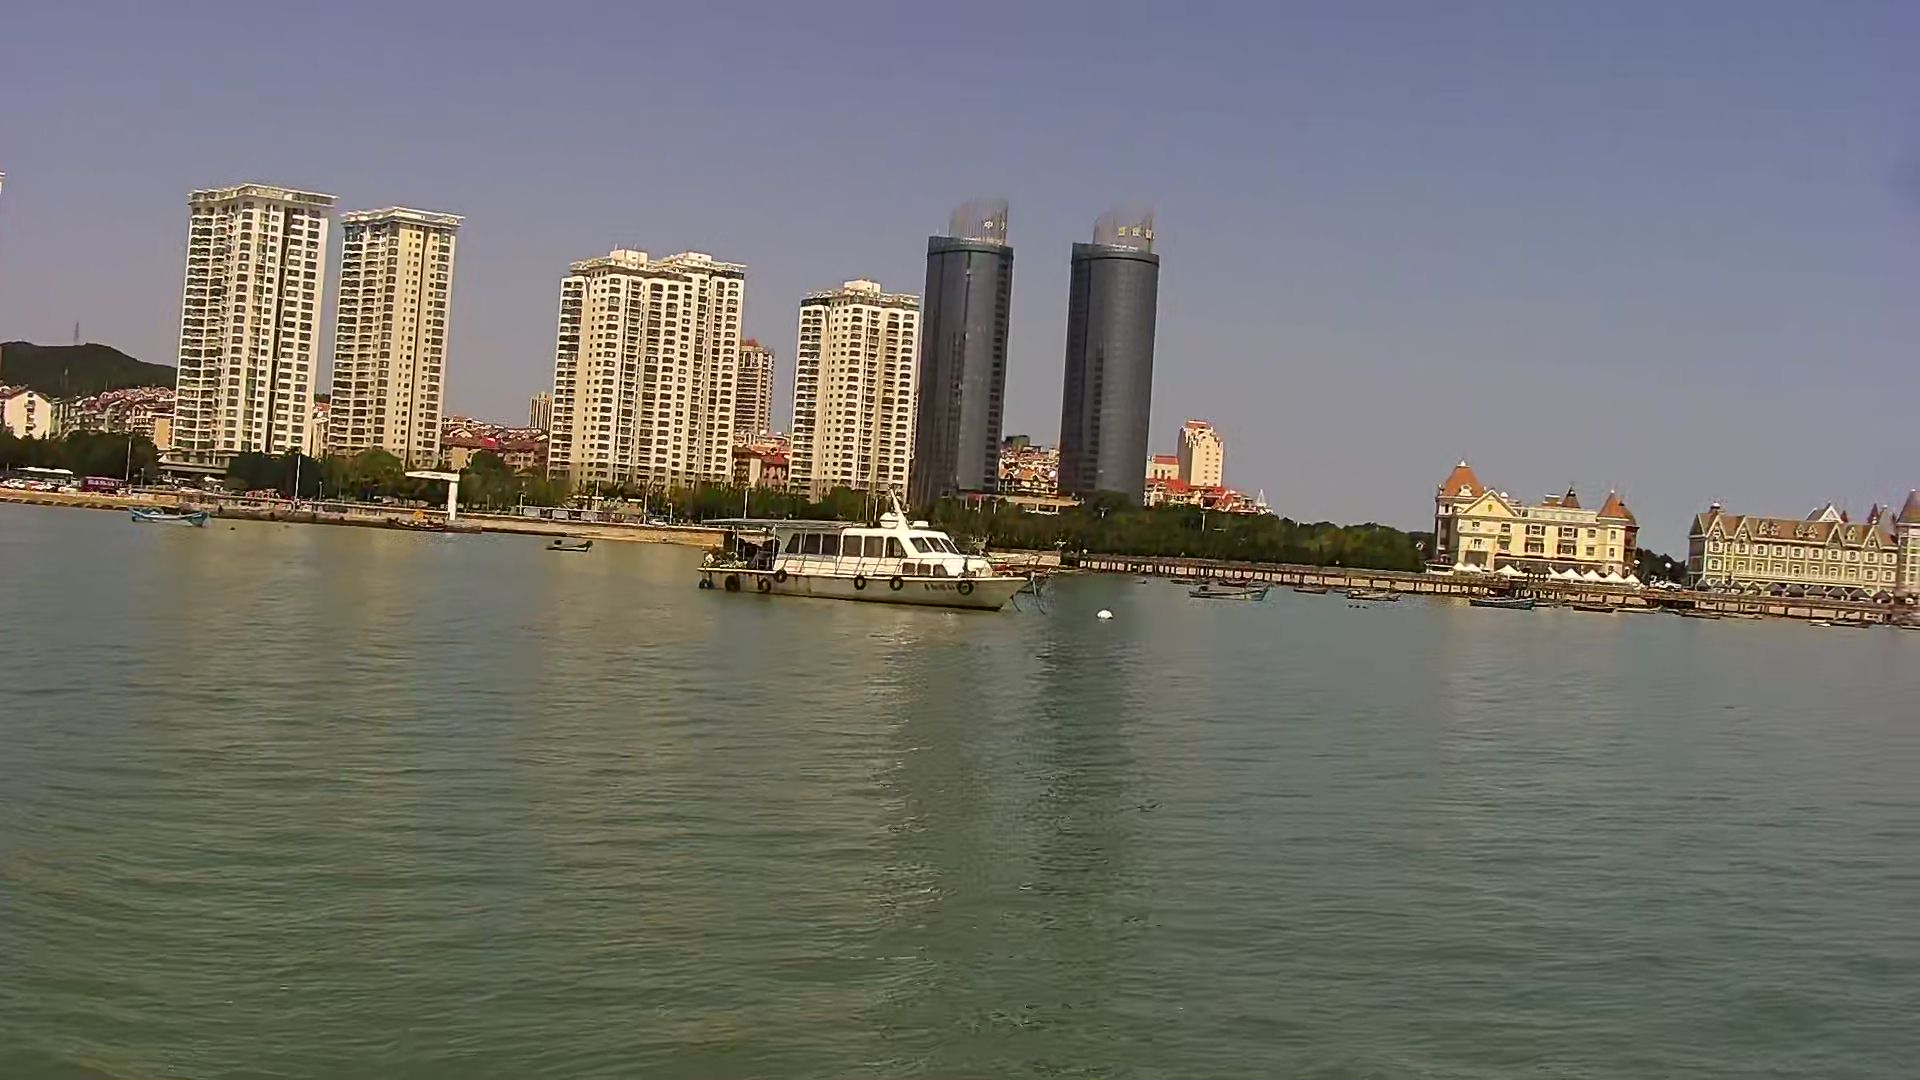ball: (1097, 607, 1117, 620)
boat: (127, 495, 211, 535), (1185, 578, 1276, 605), (541, 538, 601, 556)
ship: (698, 491, 1040, 613)
